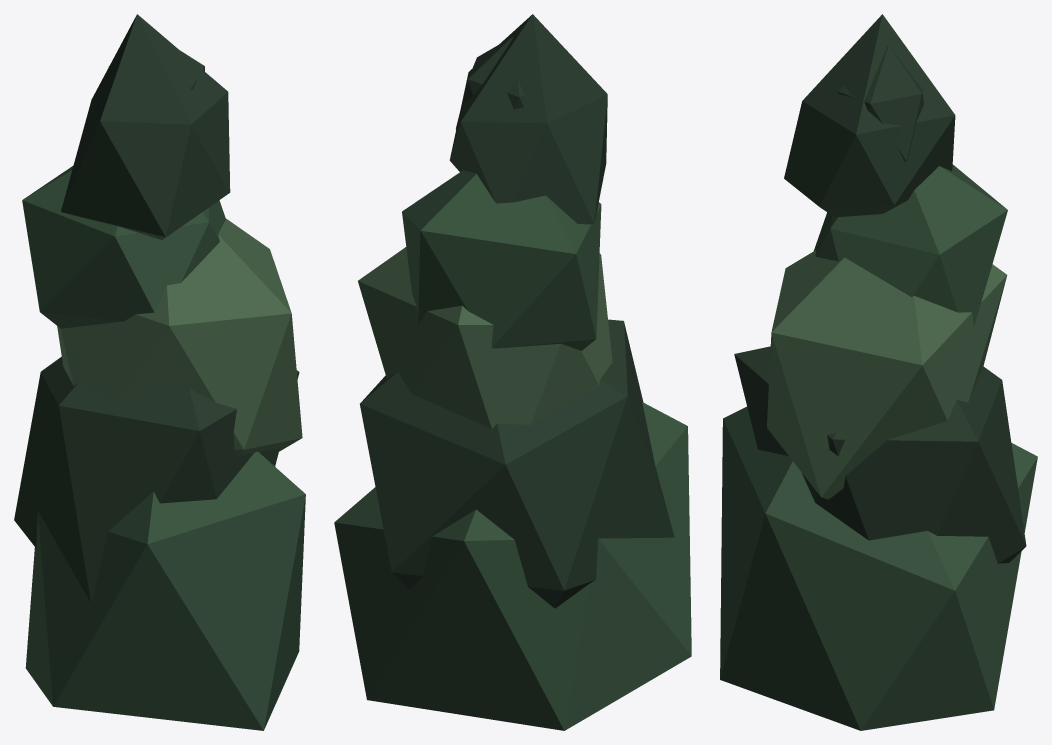
Rendered from forest_juniper.glb.
3 renders of one model, left to right at view 1: azimuth 30°, elevation 25°; view 2: azimuth 150°, elevation 25°; view 3: azimuth 270°, elevation 25°, orthographic. The views are drawn at different scales.
Visible parts, largest first — view 1: forest_juniper; view 2: forest_juniper; view 3: forest_juniper.
Part boxes in pixels (x1,y1,x2,y2): forest_juniper: (14, 14, 305, 730); forest_juniper: (334, 14, 691, 730); forest_juniper: (720, 14, 1037, 730).
Bounding box in the file's own units: 1.19 × 2.69 × 1.2.
